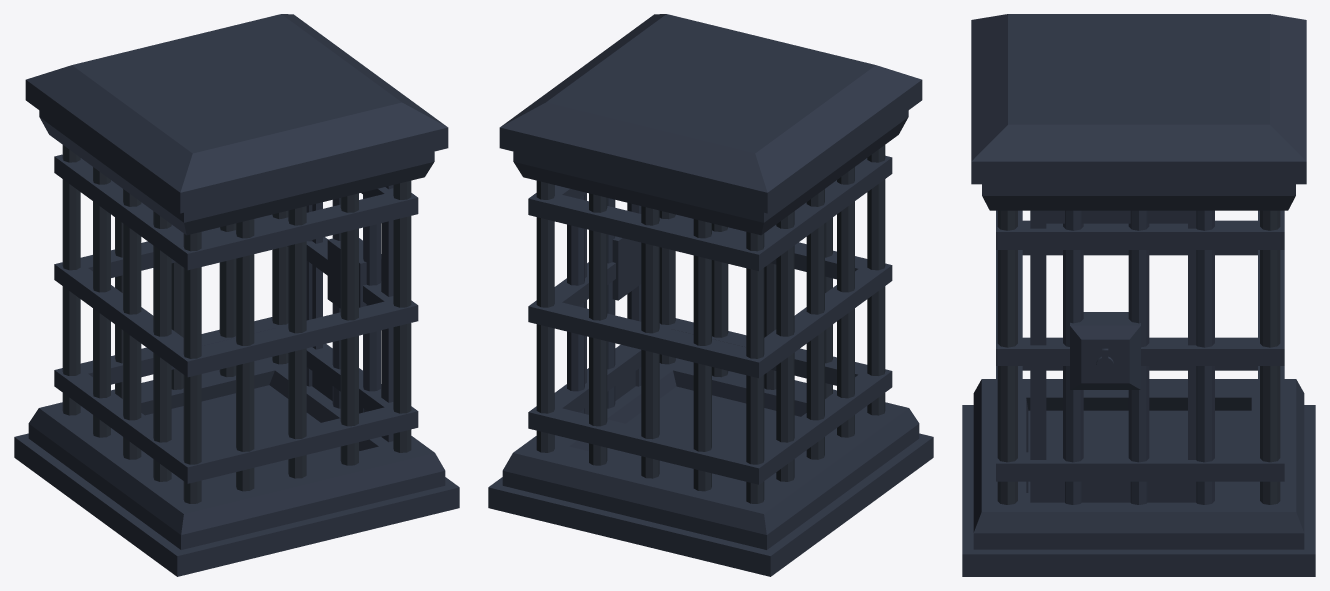
File: jail.fbx
3 renders of one model, left to right at view 1: azimuth 30°, elevation 25°; view 2: azimuth 150°, elevation 25°; view 3: azimuth 270°, elevation 25°, orthographic. The views are drawn at different scales.
Parts seen in each view (by area): view 1: Cube.001, Cube.002, Cube.007, Cube, Cube.004, Cube.003, 실린더.003, 실린더.001, 실린더.015, 실린더.011, 실린더.007, 실린더.002 (+12 smaller); view 2: Cube.001, Cube.002, Cube.007, Cube, Cube.004, Cube.003, 실린더.002, 실린더.014, 실린더, 실린더.010, 실린더.006, 실린더.003 (+12 smaller); view 3: Cube.001, Cube.002, Cube.007, Cube, Cube.005, Cube.003, Cube.004, 큐브, 실린더, 실린더.001, 실린더.013, 실린더.012 (+1 smaller).
Boxes of the visible parts, <box> form: Cube.001: <box>25,14,448,213</box>; Cube.002: <box>28,357,445,549</box>; Cube.007: <box>54,154,418,483</box>; Cube: <box>14,433,459,576</box>; Cube.004: <box>54,214,418,377</box>; Cube.003: <box>39,110,434,235</box>; 실린더.003: <box>183,232,201,503</box>; 실린더.001: <box>393,180,411,452</box>; 실린더.015: <box>236,219,254,491</box>; 실린더.011: <box>288,206,306,478</box>; 실린더.007: <box>340,193,358,465</box>; 실린더.002: <box>62,145,80,415</box>; Cube.001: <box>499,14,922,213</box>; Cube.002: <box>502,358,919,549</box>; Cube.007: <box>528,155,892,484</box>; Cube: <box>488,433,933,576</box>; Cube.004: <box>528,214,892,378</box>; Cube.003: <box>513,110,908,235</box>; 실린더.002: <box>746,232,764,503</box>; 실린더.014: <box>693,219,711,491</box>; 실린더: <box>536,180,554,452</box>; 실린더.010: <box>641,206,659,478</box>; 실린더.006: <box>589,193,607,465</box>; 실린더.003: <box>867,145,885,415</box>; Cube.001: <box>971,14,1306,184</box>; Cube.002: <box>973,379,1304,549</box>; Cube.007: <box>996,210,1284,481</box>; Cube: <box>962,405,1315,576</box>; Cube.005: <box>1030,210,1196,502</box>; Cube.003: <box>982,184,1295,210</box>; Cube.004: <box>996,250,1284,365</box>; 큐브: <box>1070,312,1140,389</box>; 실린더: <box>1260,210,1280,504</box>; 실린더.001: <box>997,210,1017,504</box>; 실린더.013: <box>1196,210,1214,504</box>; 실린더.012: <box>1128,210,1149,504</box>.
Size of the model in its own units: 504 by 681 by 504.
